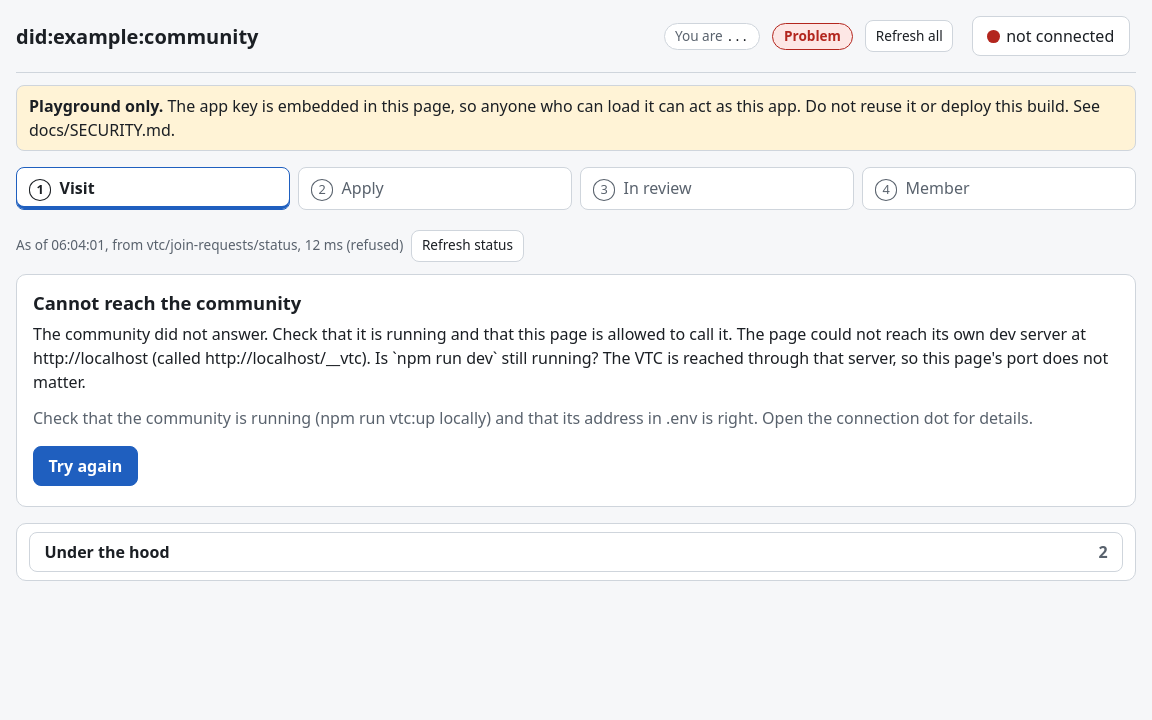
Test: error › says the community did not answer, with a way to try again that re-reads (no page reload)
Expected: the heading "Cannot reach the community" is shown, 33,290 -> 301,315
Click the button "Try again": [85, 466] box 33,446 -> 138,486
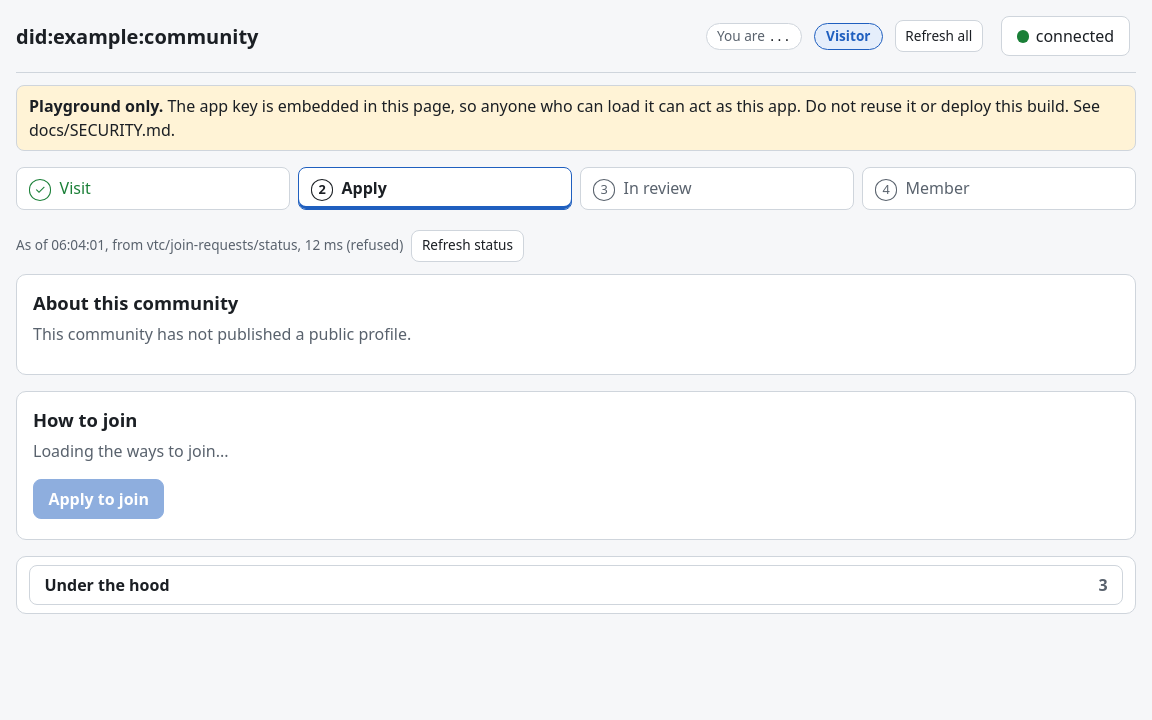
Now the message "Visitor" is shown, box 814,23 -> 883,50
